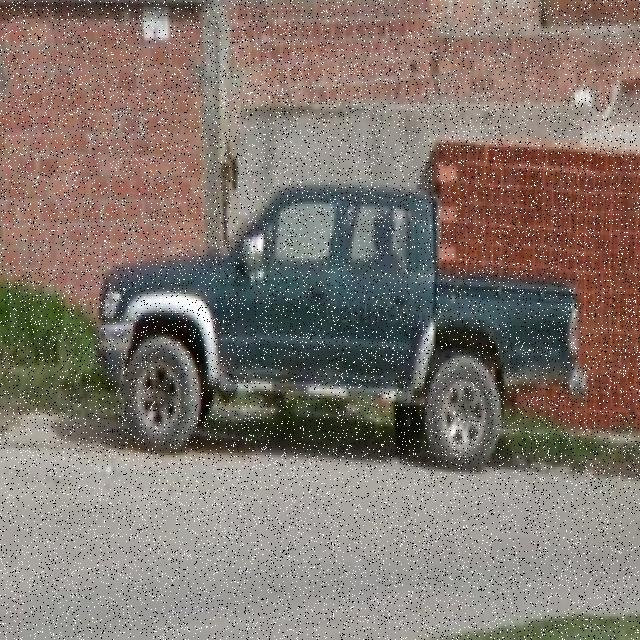cars: (91, 183, 578, 469)
